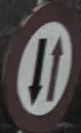Two way: (5, 8, 74, 121)
